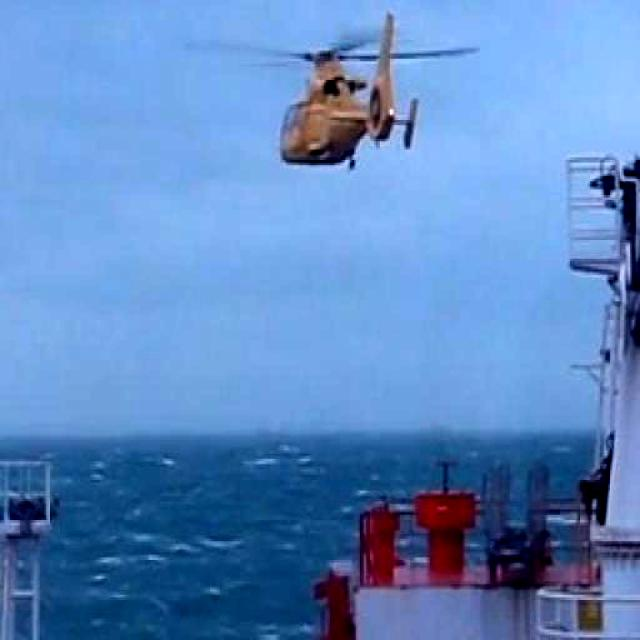drone: (241, 0, 450, 178)
